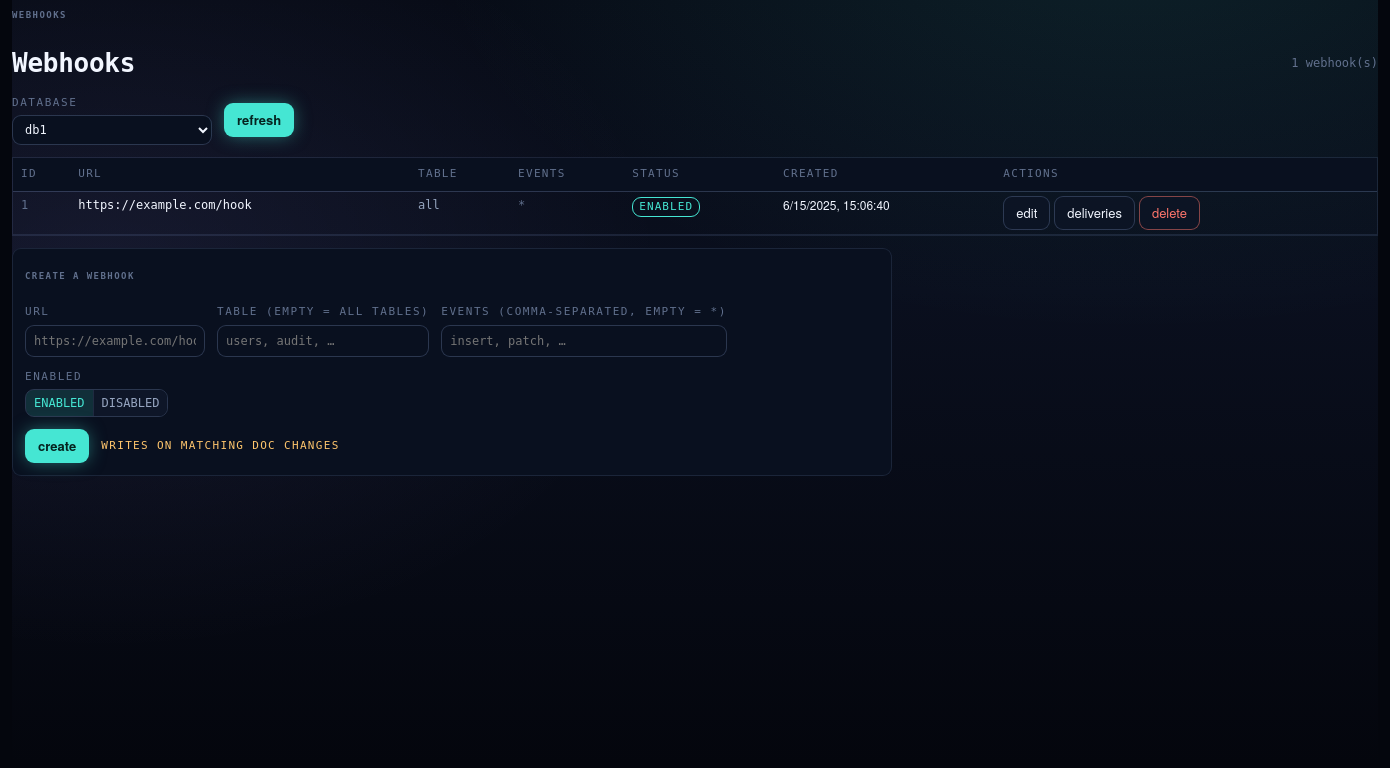
Test: WebhooksPage › redelivers all failed deliveries and surfaces action errors
Check: the text "https://example.com/hook" is shown, box [70,191,410,234]
Click the button "deliveries": x=1095, y=212 [1054,196,1135,230]
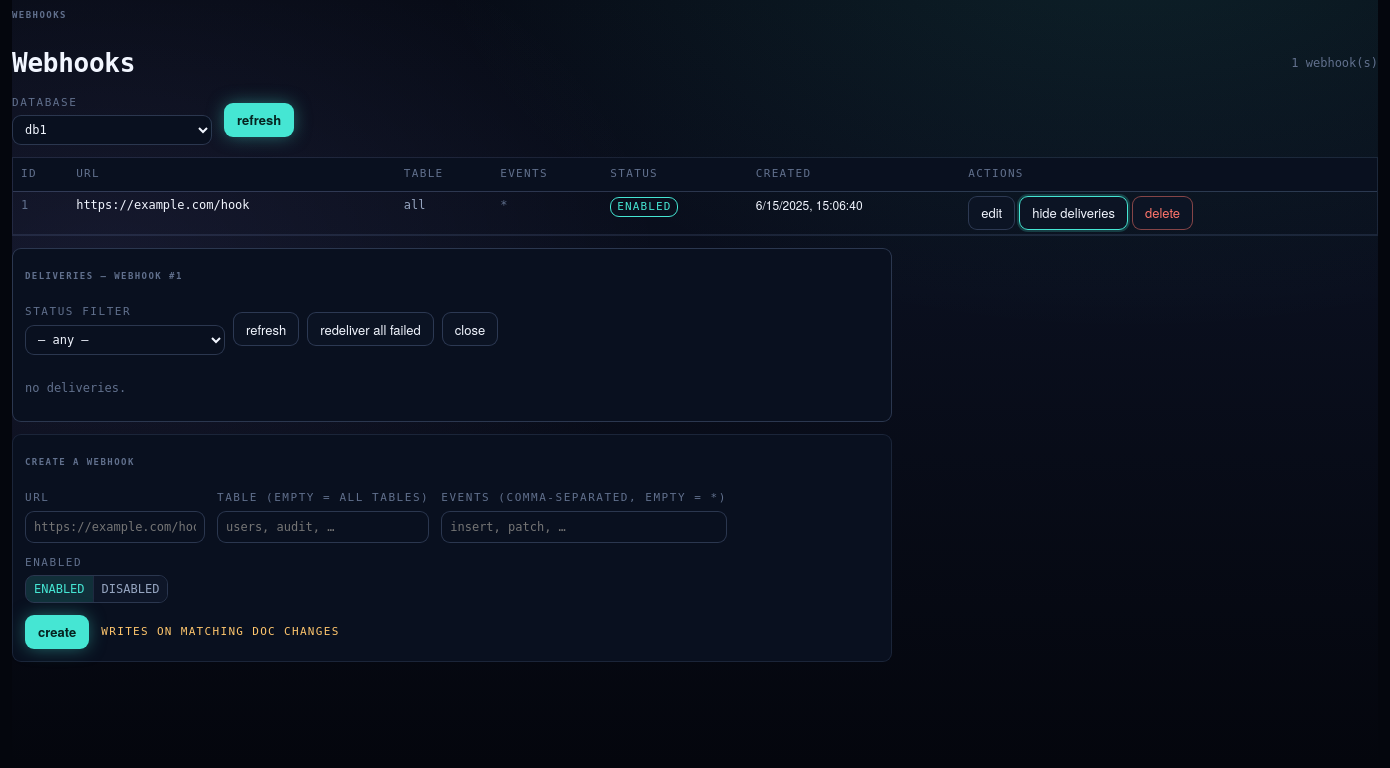
Click the button "redeliver all failed": x=370, y=329 [307,312,434,346]
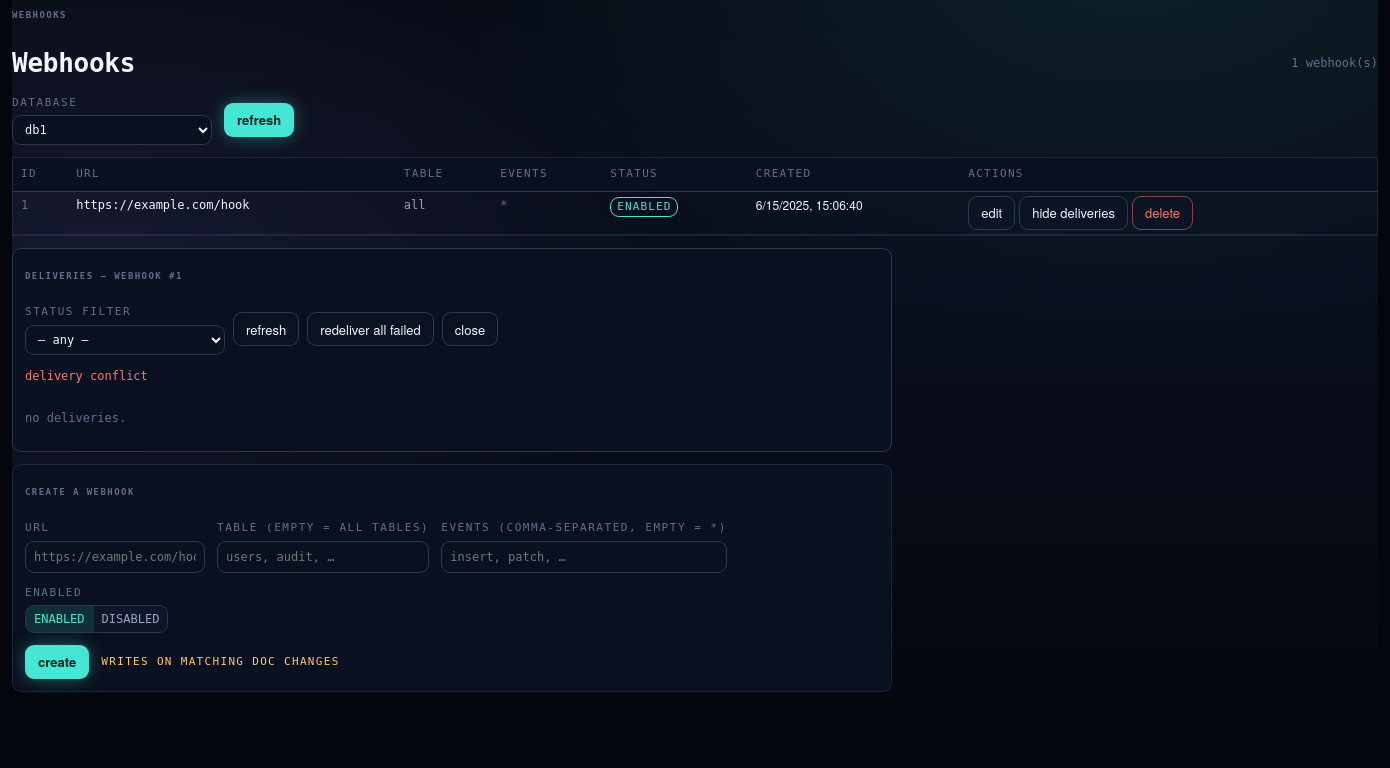
Check: the message reads "delivery conflict", box [25,368,148,382]
